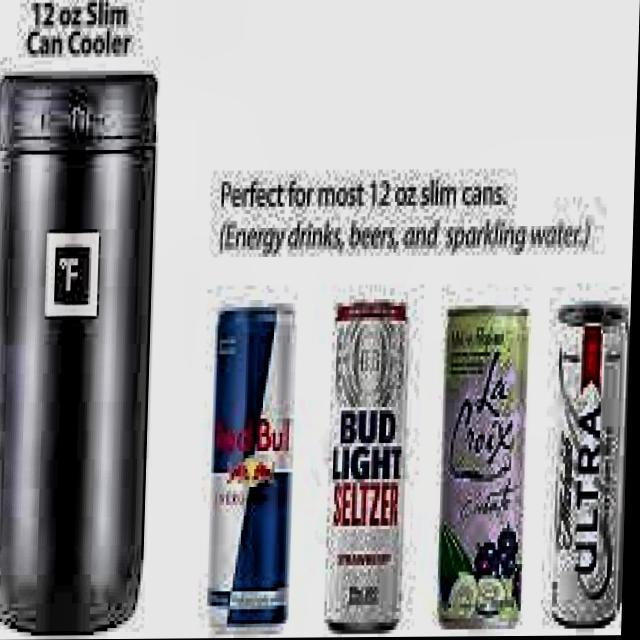litter: (202, 293, 306, 639), (436, 298, 534, 638), (322, 293, 414, 638), (544, 292, 633, 636)
